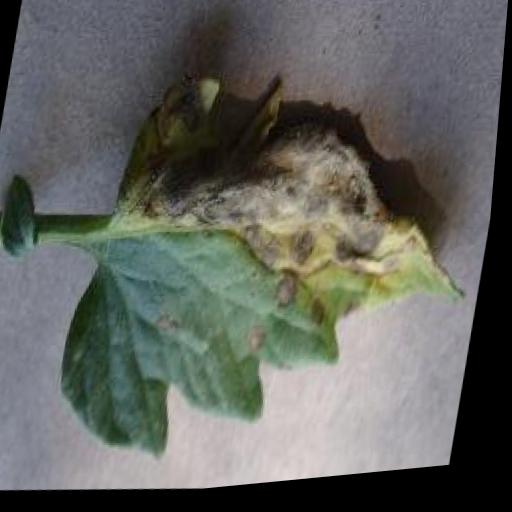Early Blight: (52, 39, 507, 494)
